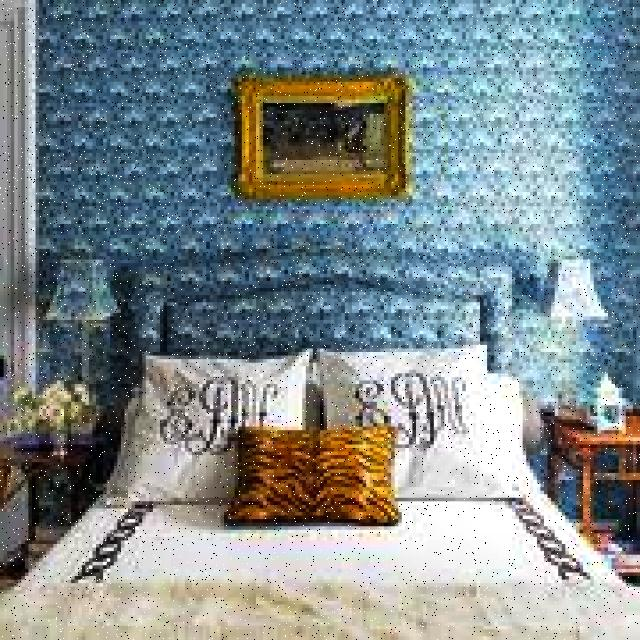bed: (4, 299, 588, 640)
